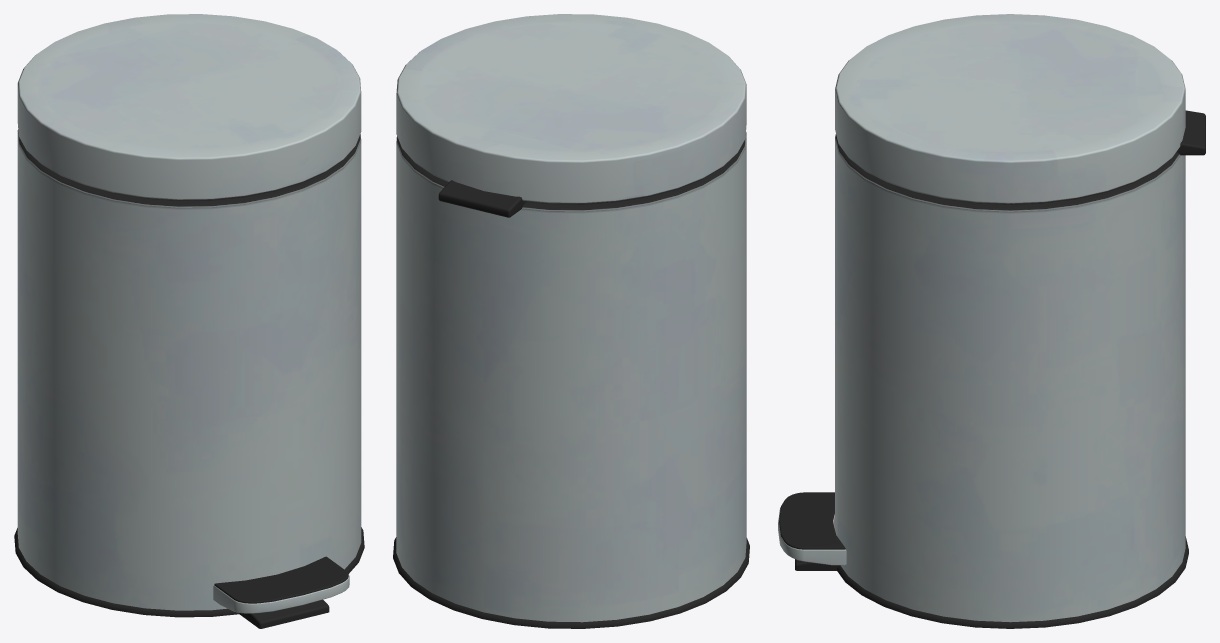
The model's file is trash caddnfbx.fbx.
3 views of the same model, side by side, from view 1: azimuth 30°, elevation 25°; view 2: azimuth 150°, elevation 25°; view 3: azimuth 270°, elevation 25° (orthographic).
Visible parts, largest first — view 1: TrashCan_0; view 2: TrashCan_0; view 3: TrashCan_0.
Boxes of the visible parts, <box> form: TrashCan_0: <box>14,14,364,628</box>; TrashCan_0: <box>393,14,749,628</box>; TrashCan_0: <box>778,14,1205,628</box>.
Bounding box in the file's own units: 38.93 × 56.05 × 46.59.
